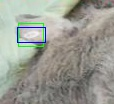text: (18, 23, 43, 46)
